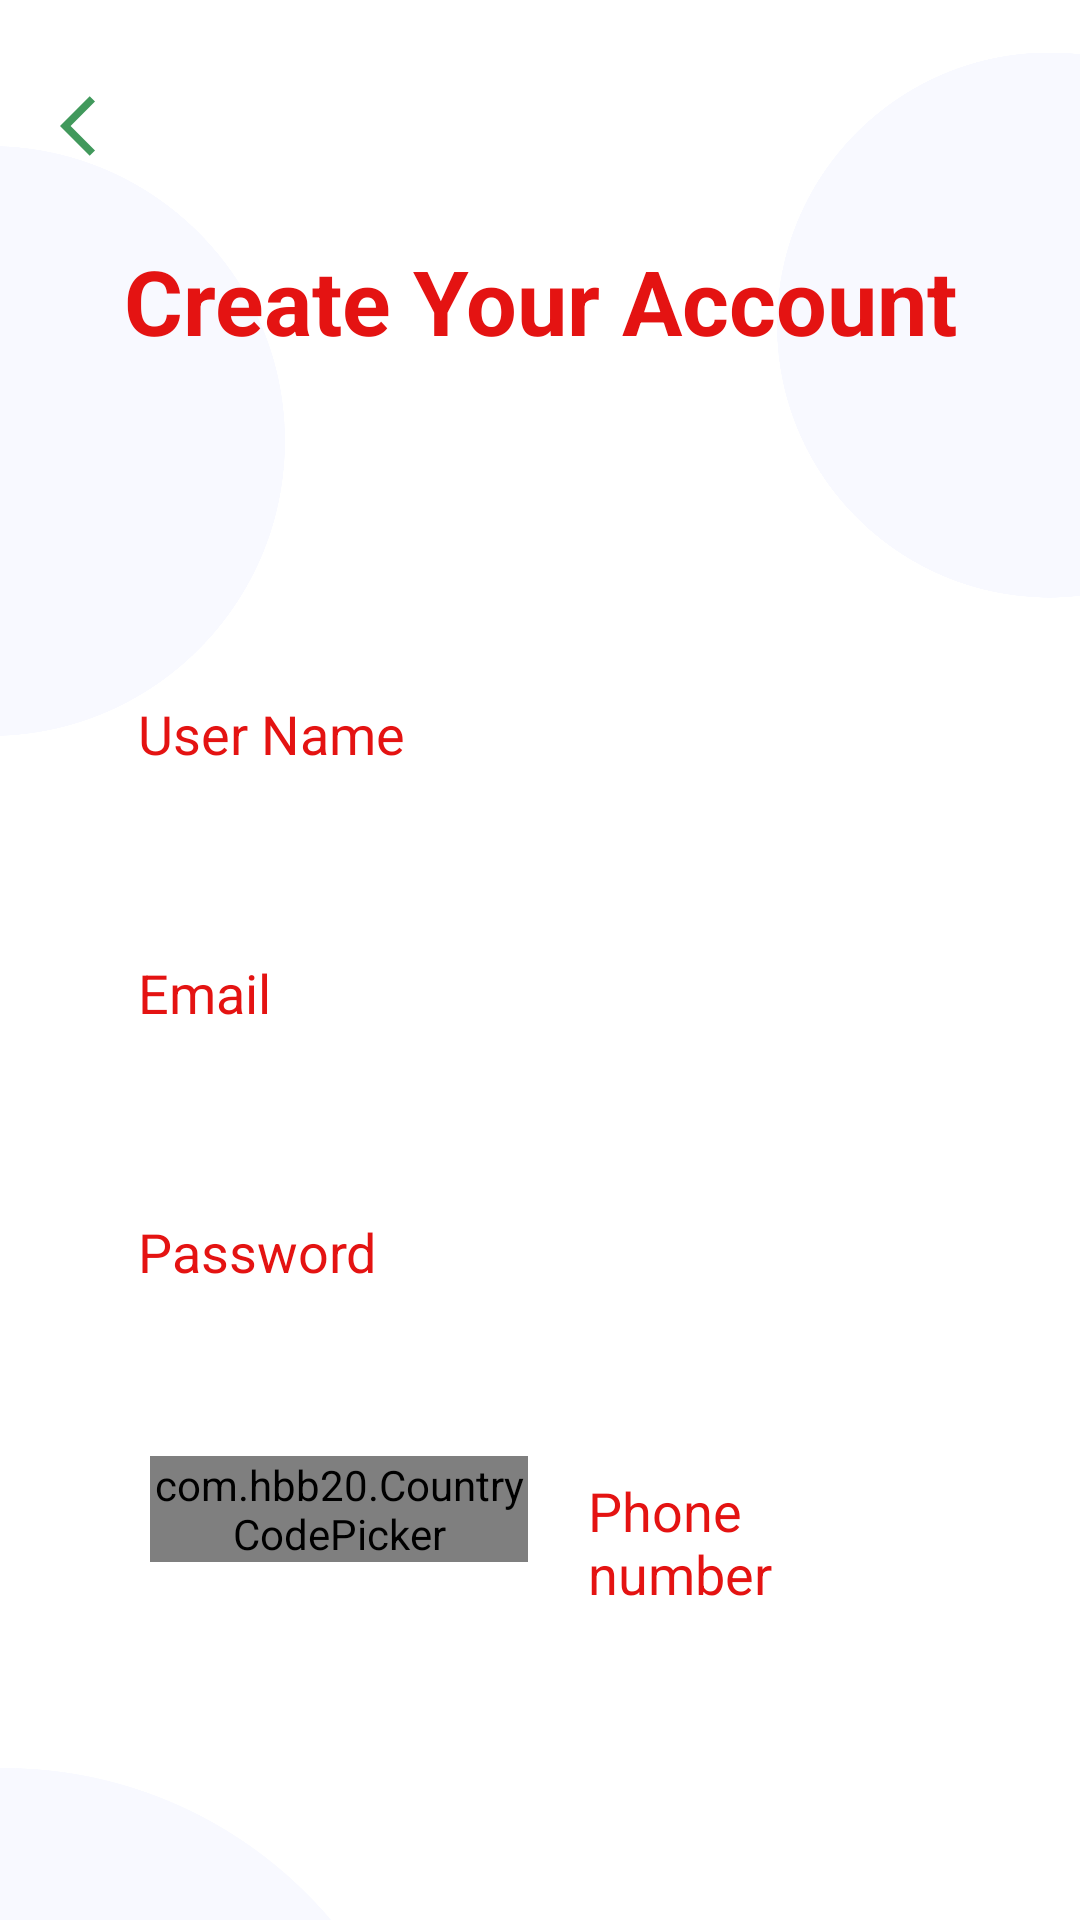

Point at icon controls on the screen. Image size 1080w x 1920h, points as point (x, y).
arrow back: point (77, 126)
